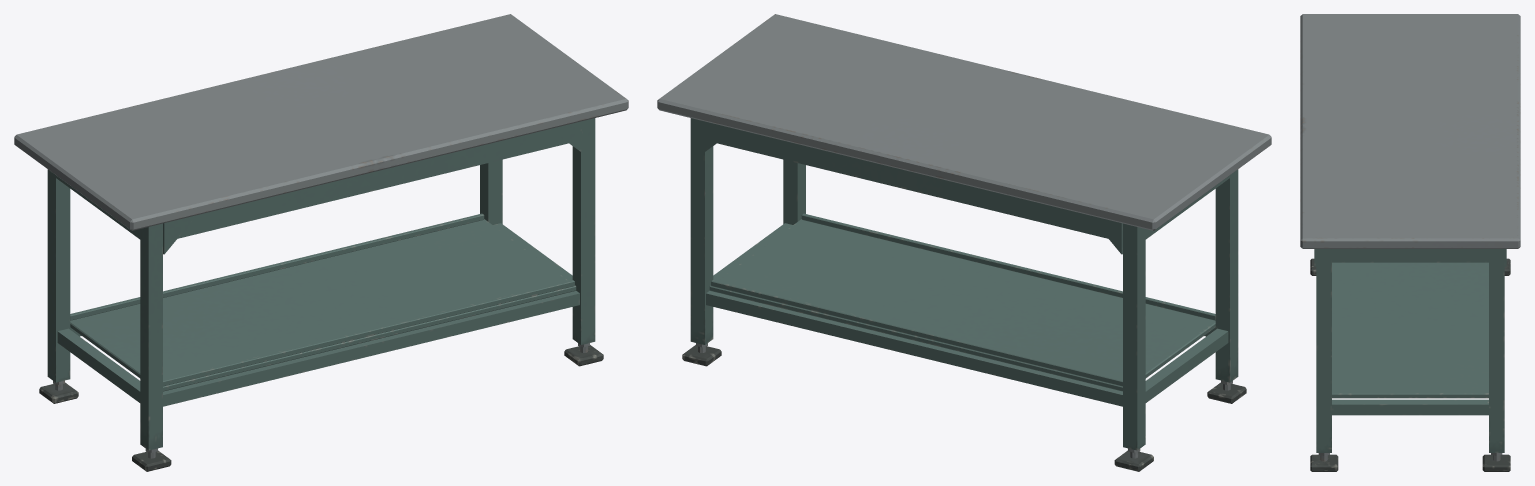
Rendered from workshop_bench_plain.glb.
The picture shows the model from 3 angles, left to right: view 1: azimuth 30°, elevation 25°; view 2: azimuth 150°, elevation 25°; view 3: azimuth 270°, elevation 25°; orthographic projection. The views are drawn at different scales.
Parts seen in each view (by area): view 1: WorkshopBenchPlain; view 2: WorkshopBenchPlain; view 3: WorkshopBenchPlain.
Part boxes in pixels (x1=…): WorkshopBenchPlain: x1=14, y1=14, x2=628, y2=471; WorkshopBenchPlain: x1=657, y1=14, x2=1271, y2=471; WorkshopBenchPlain: x1=1300, y1=14, x2=1520, y2=471.
Size of what is drawn, in the model's own units: 1.8 by 0.9 by 0.74.
Materials: 1 (1 with a texture image).
